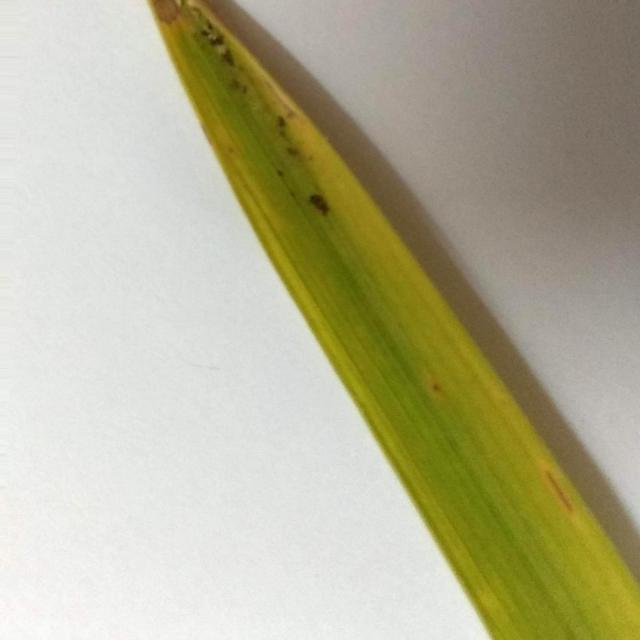Brown_Spot: (545, 470, 574, 512), (278, 110, 299, 155), (150, 0, 180, 23), (201, 21, 224, 48), (309, 194, 329, 215), (220, 45, 234, 66), (431, 382, 442, 398)
